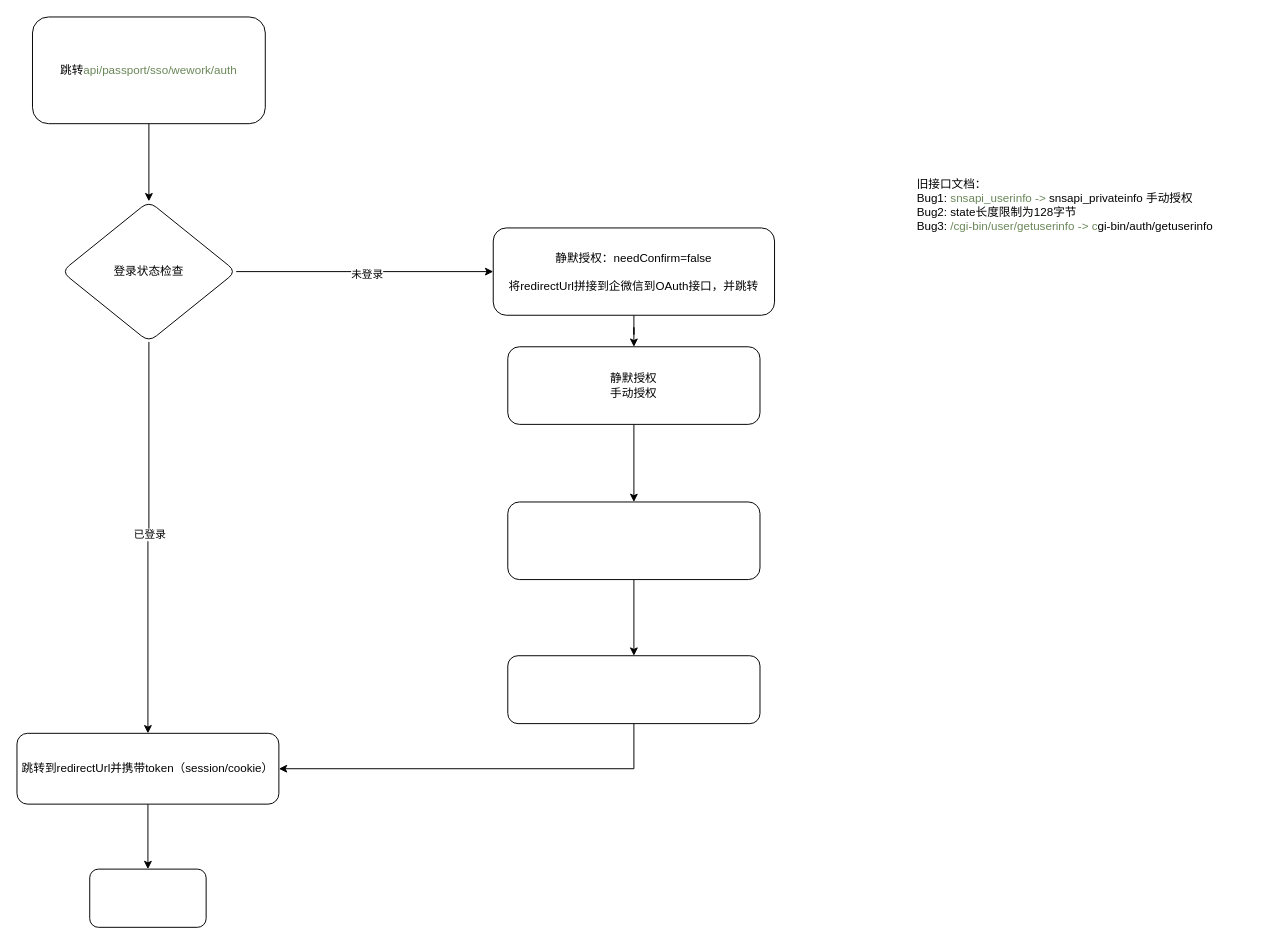
Some shapes in this 1271 by 945 pixel diagram are drawn without their labels. Each missing label, with the box of its shape:
携带code 跳转到api/passport /sso/wework/callback: (507, 501, 760, 580)
根据code从微信获取userId 根据userid查询员工后，进行登录: (507, 655, 760, 724)
页面: (89, 868, 206, 927)
